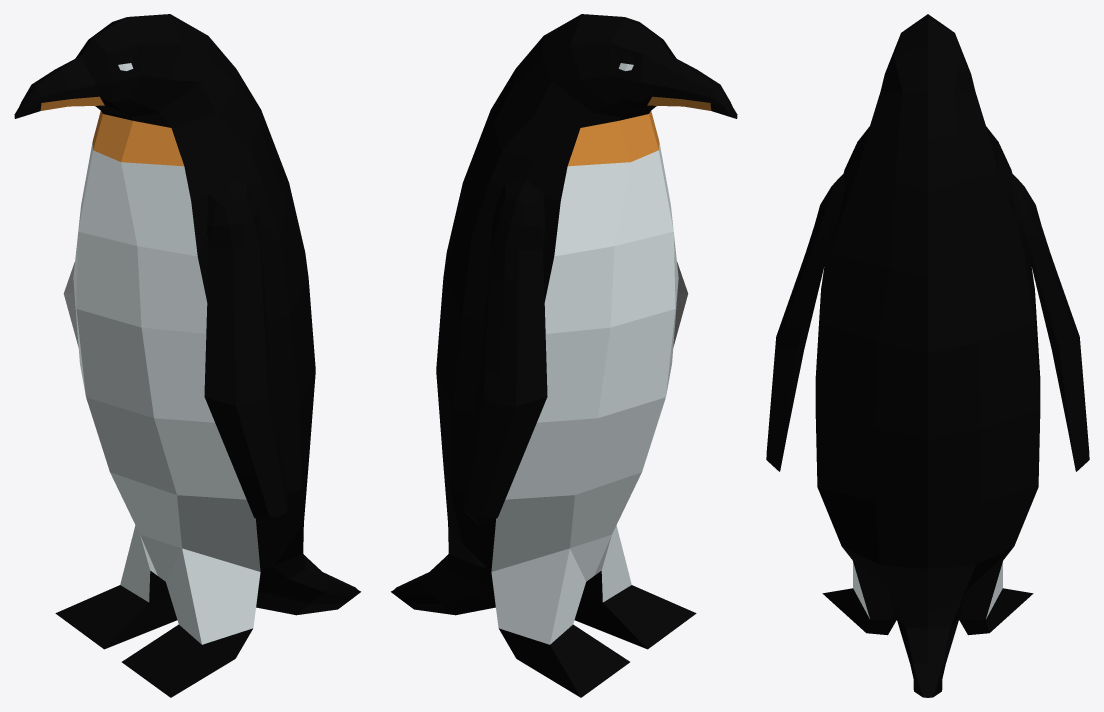
The model's file is lowpoly_penguin_rig.fbx.
The picture shows the model from 3 angles, left to right: view 1: azimuth 30°, elevation 25°; view 2: azimuth 150°, elevation 25°; view 3: azimuth 270°, elevation 25°; orthographic projection. The views are drawn at different scales.
Visible parts, largest first — view 1: Plane; view 2: Plane; view 3: Plane.
Part boxes in pixels (bbox=[...]): Plane: bbox=[14, 14, 360, 697]; Plane: bbox=[391, 14, 737, 697]; Plane: bbox=[766, 14, 1089, 697].
Size of the model in its own units: 218 by 386 by 194.
